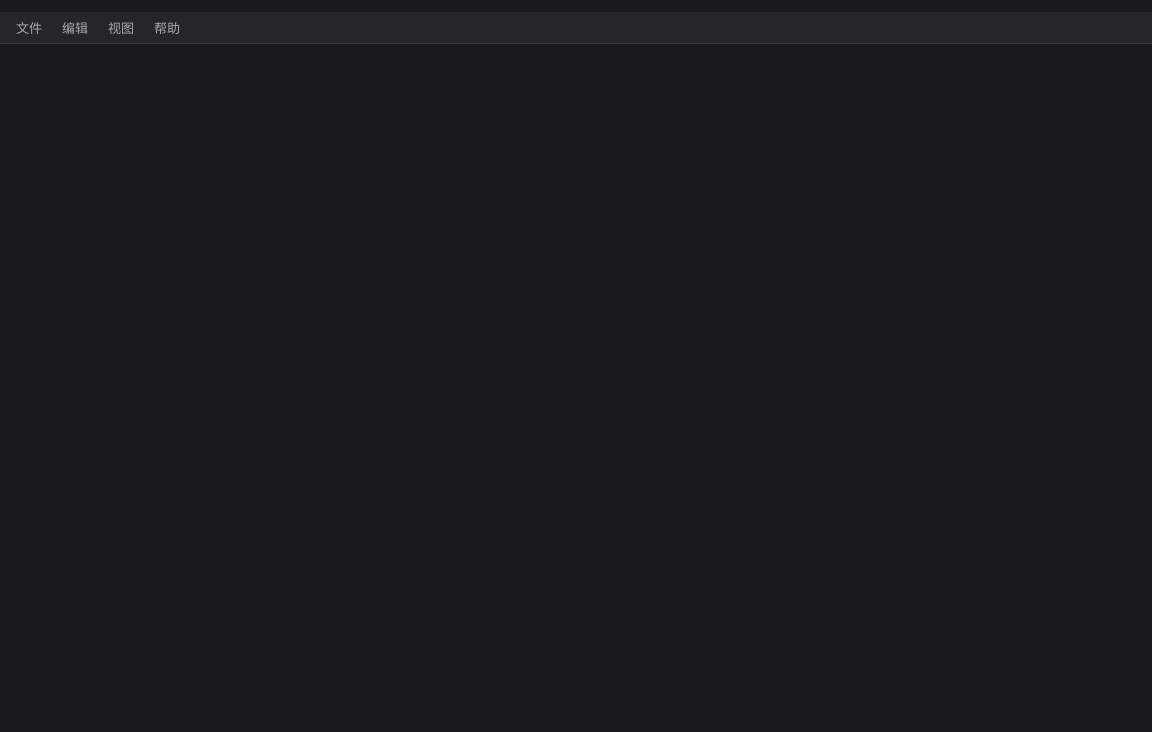
Test: AppMenuBar › click outside any menu closes it
Click the button with class "menu-dropdown__trigger" showing "文件" at [29, 28], box [8,14,50,40]
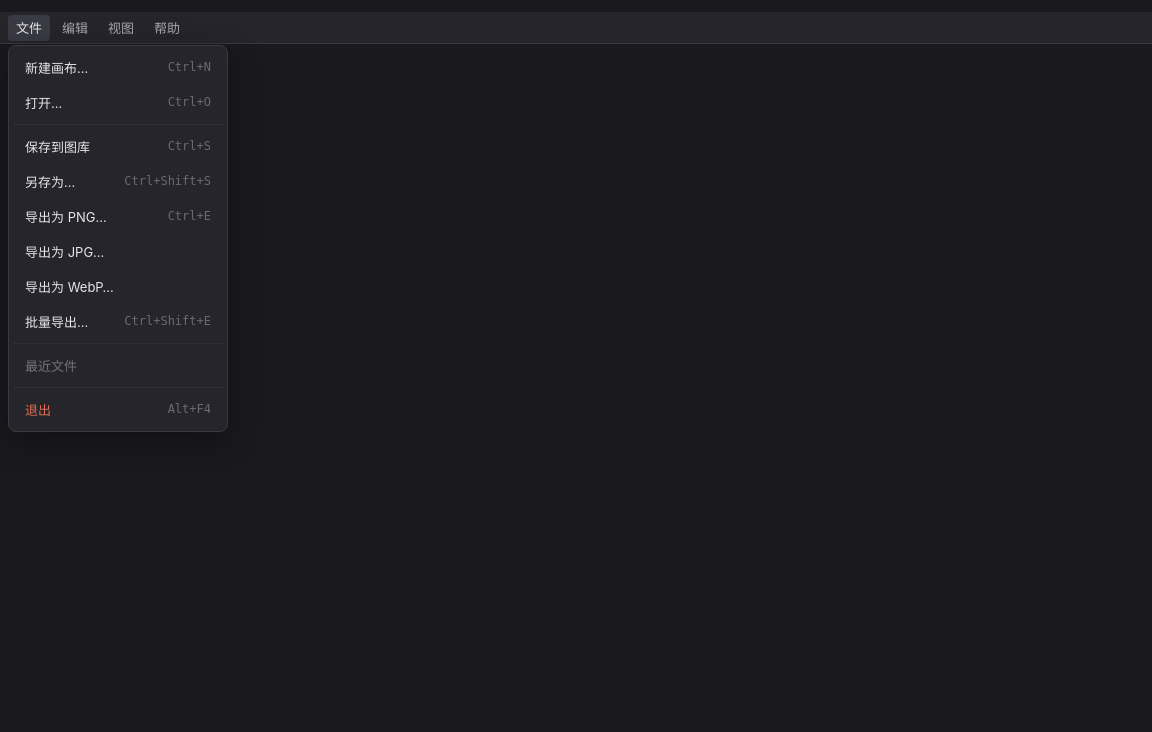
expect the number of menus is 1: met, box [8,44,228,432]
Click the element that starts with "新建画布…" at [576, 372], box [0,12,1151,731]
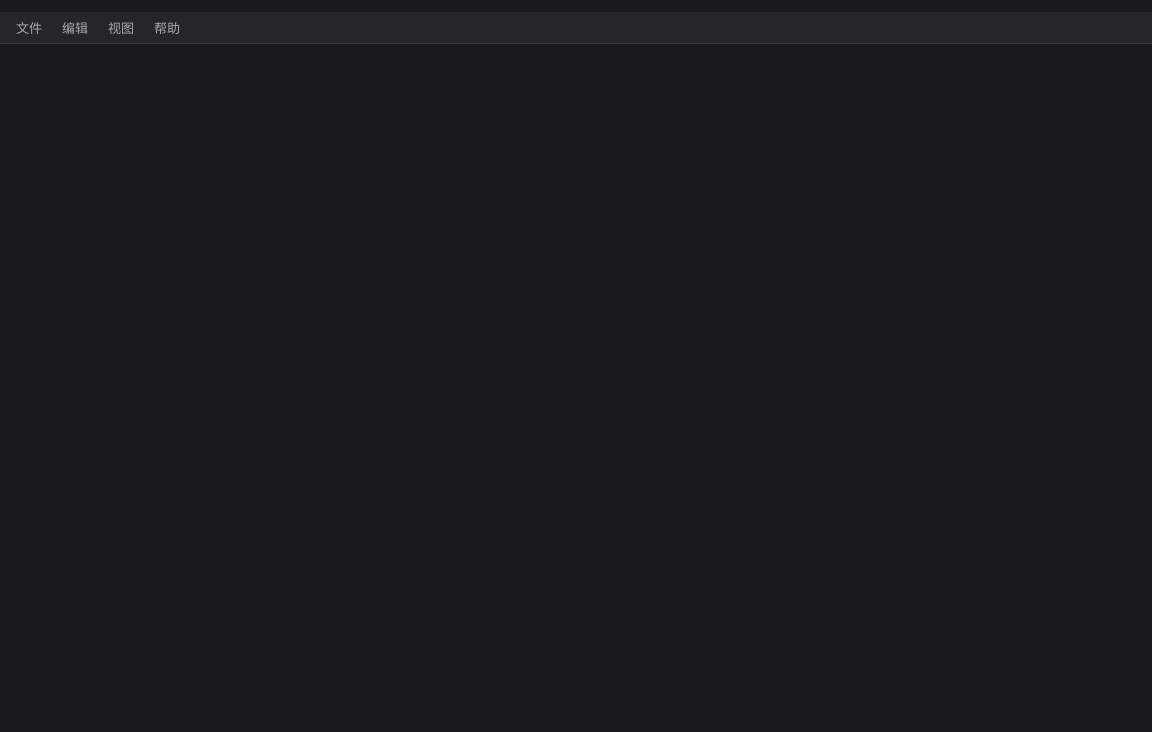
expect no menus are shown: met
